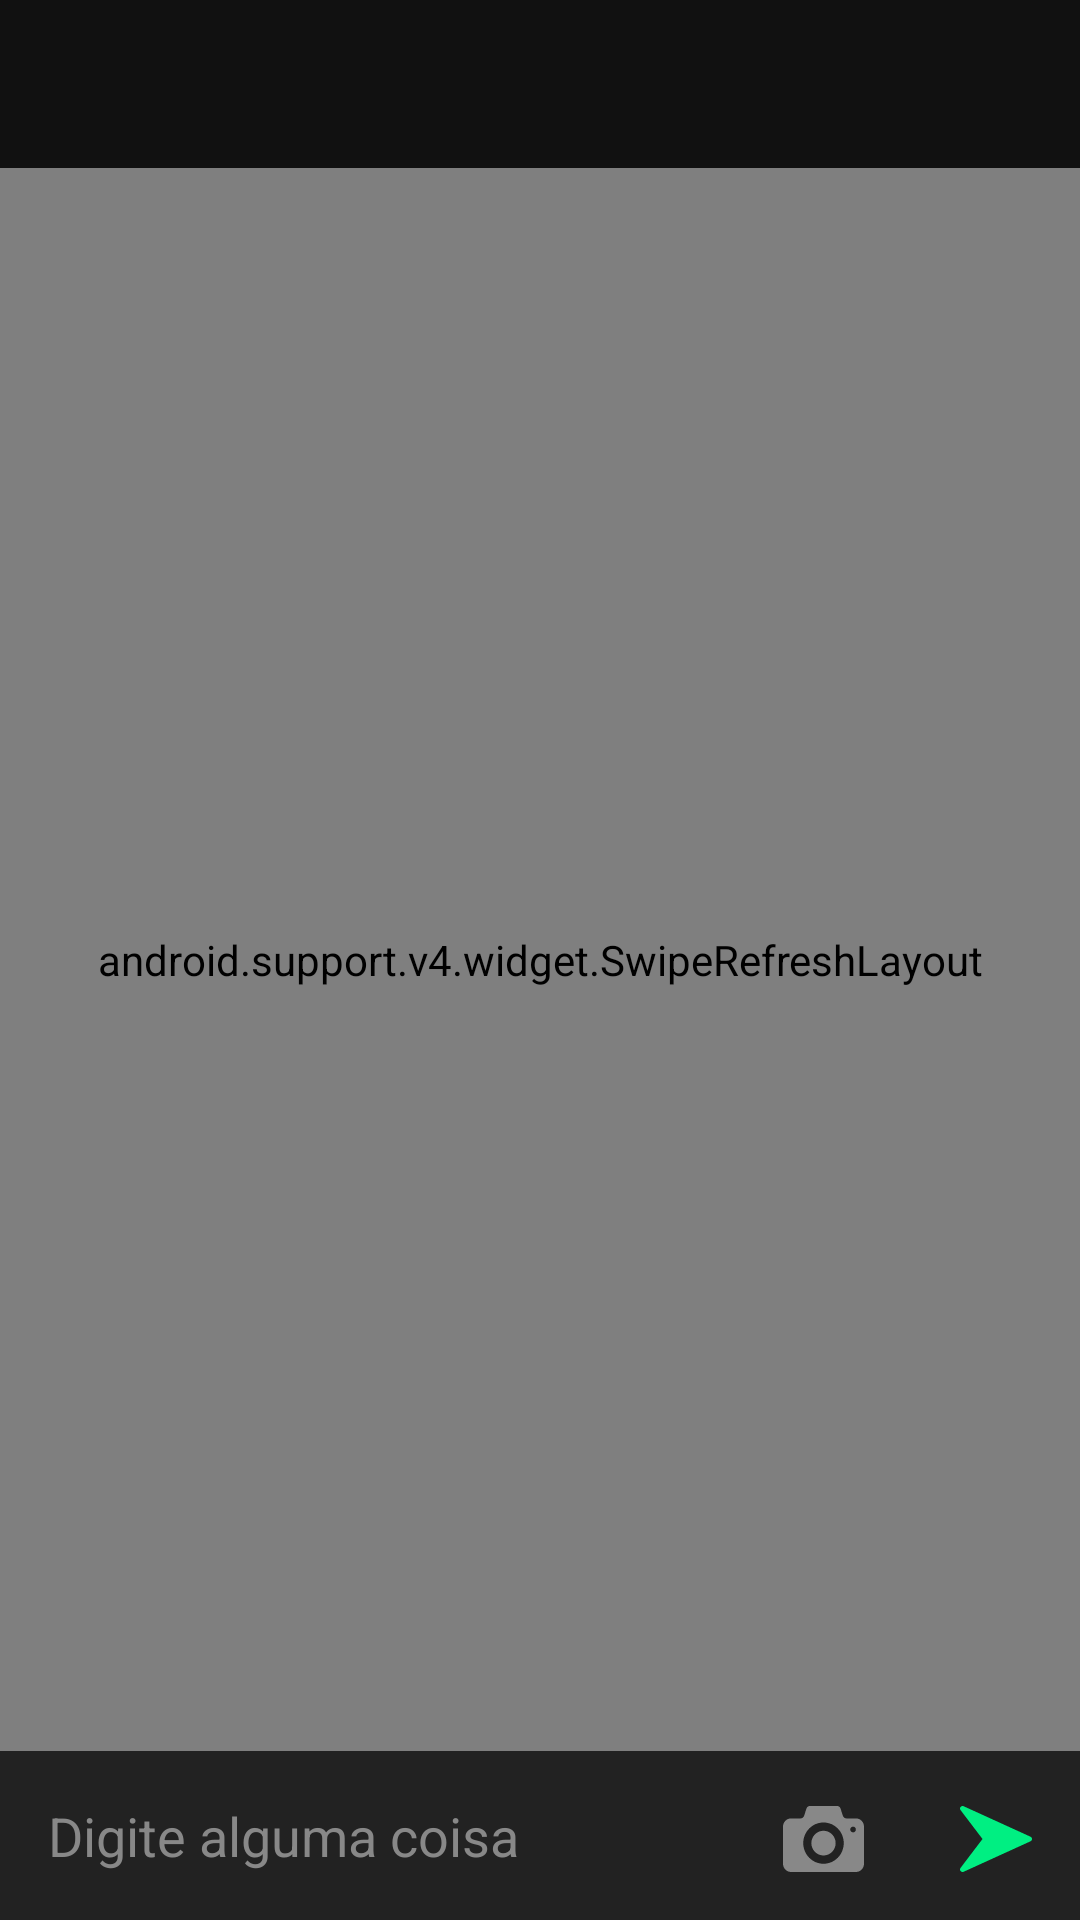

Where to tap for icons on this 1080*1920 app screen, as point (x, y):
camera: point (823, 1839)
send: point (996, 1839)
